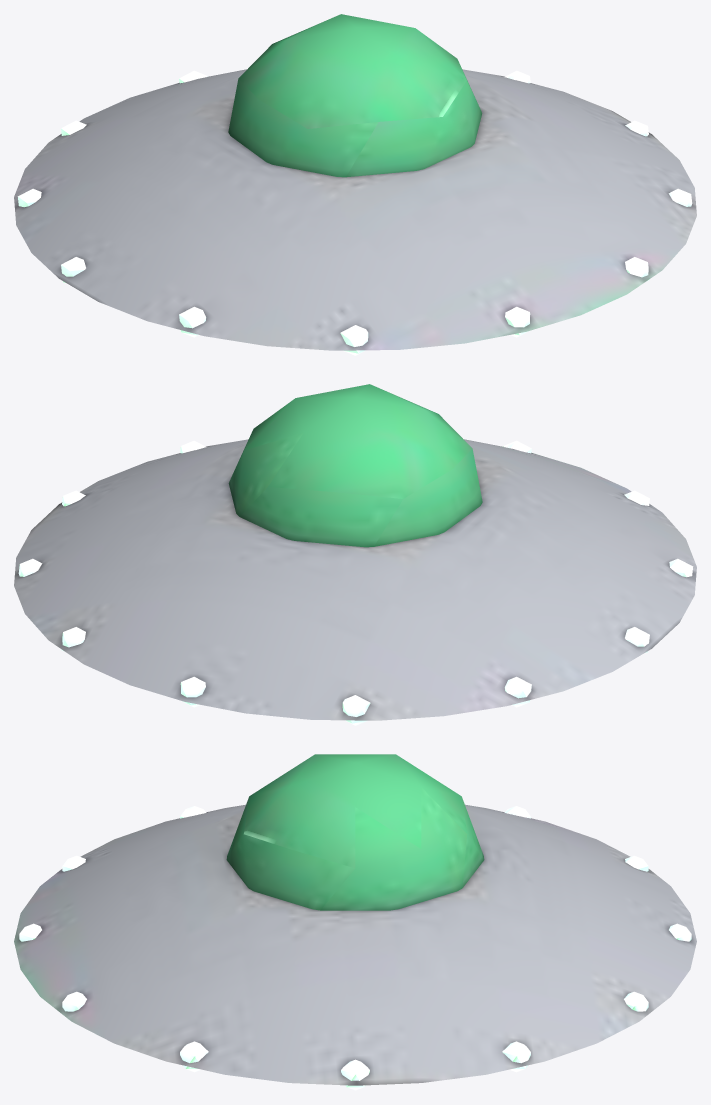
The model's file is platillo.glb.
3 renders of one model, top to bottom at view 1: azimuth 30°, elevation 25°; view 2: azimuth 150°, elevation 25°; view 3: azimuth 270°, elevation 25°, orthographic.
Parts seen in each view (by area): view 1: platillo; view 2: platillo; view 3: platillo.
Boxes of the visible parts, x1,y1,x2,y2 form: platillo: (14,14,696,355); platillo: (14,384,696,725); platillo: (14,754,696,1090).
Bounding box in the file's own units: 5.2 × 2.22 × 5.2.
1 material, 1 textured.
